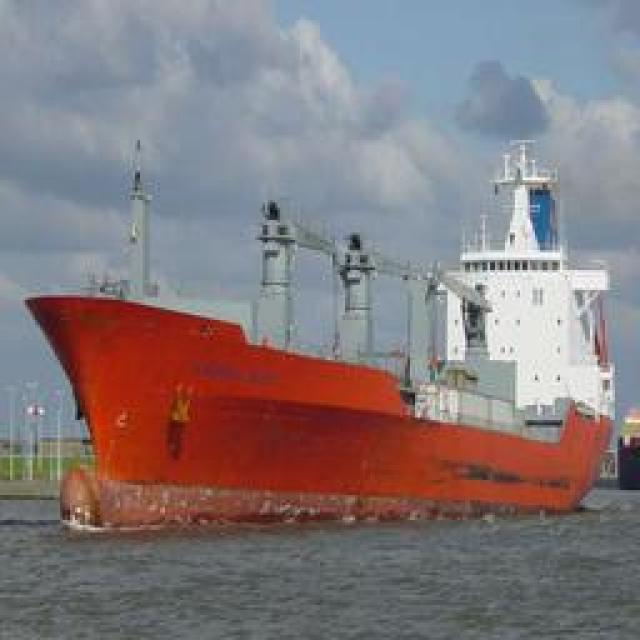CIV_Ship: (30, 252, 612, 536)
